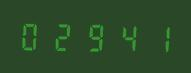four: (111, 20, 141, 53)
nine: (80, 19, 110, 53)
one: (142, 20, 172, 54)
two: (49, 19, 79, 52)
zero: (18, 18, 48, 52)
